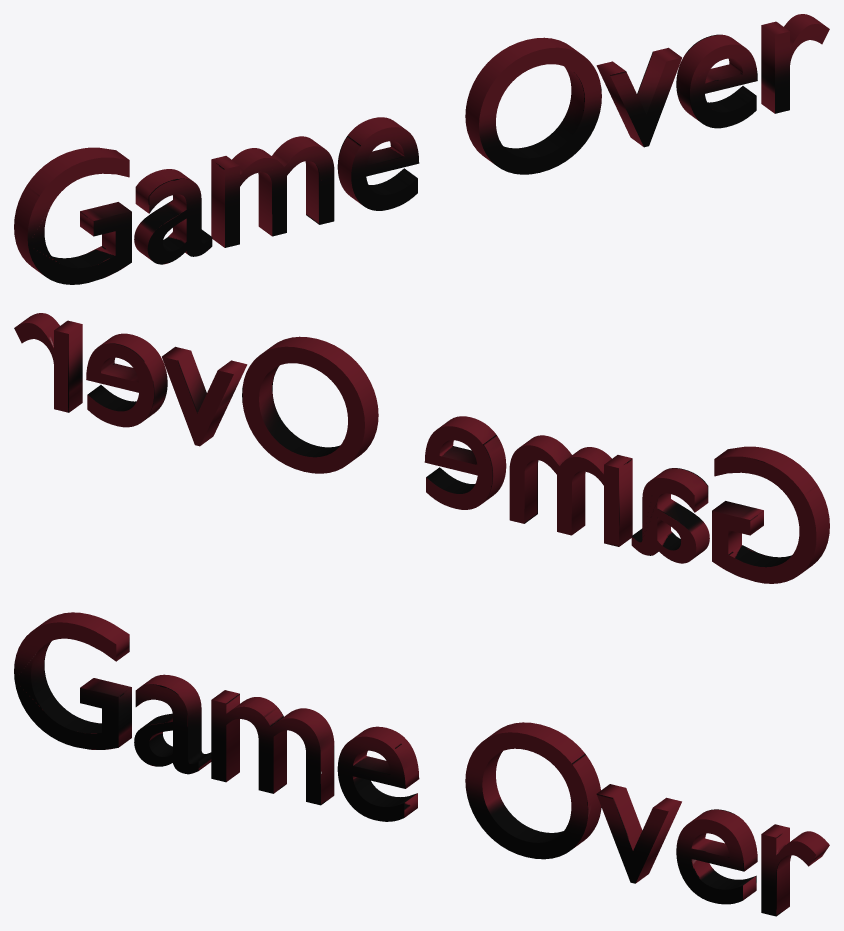
The model's file is UI_gameover.obj.
3 renders of one model, top to bottom at view 1: azimuth 30°, elevation 25°; view 2: azimuth 150°, elevation 25°; view 3: azimuth 330°, elevation 25°, orthographic.
Parts seen in each view (by area): view 1: テキスト; view 2: テキスト; view 3: テキスト.
Part boxes in pixels (x1,y1,x2,y2): テキスト: (14, 14, 829, 284); テキスト: (14, 313, 829, 583); テキスト: (14, 612, 829, 916).
Size of the model in its own units: 4.78 by 0.7 by 0.14.
Materials: 1 (1 with a texture image).
